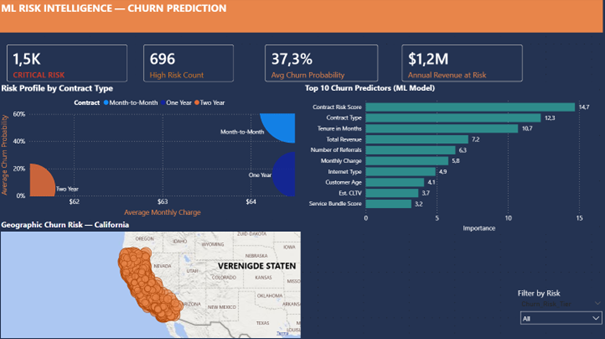

What the dashboard file says about the page in this screenshot:
{"tool":"powerbi","page":{"name":"ML Risk Intelligence","canvas":[1280,720],"ordinal":2},"visuals":[{"type":"map","title":"Geographic Churn Risk — California","fields":{"Size":["Avg(telecom_clean_powerbi.Monthly Charge)"],"Y":["telecom_clean_powerbi.Latitude"],"X":["telecom_clean_powerbi.Longitude"]},"box":[0,464,640,256],"z":0},{"type":"textbox","box":[0,0,1272,72],"z":1000},{"type":"cardVisual","title":"CRITICAL RISK","fields":{"Data":["telecom_clean_powerbi.Critical Risk Count"]},"box":[0,80,288,112],"z":2000},{"type":"cardVisual","fields":{"Data":["telecom_clean_powerbi.High Risk Count"]},"box":[288,80,224,112],"z":3000},{"type":"cardVisual","fields":{"Data":["telecom_clean_powerbi.Avg Churn Probability"]},"box":[544,80,272,112],"z":4000},{"type":"cardVisual","fields":{"Data":["telecom_clean_powerbi.Annual Revenue at Risk"]},"box":[832,80,288,112],"z":5000},{"type":"scatterChart","title":"Risk Profile by Contract Type","fields":{"Category":["telecom_clean_powerbi.Contract"],"X":["Avg(telecom_clean_powerbi.Monthly Charge)"],"Y":["Avg(telecom_clean_powerbi.Churn_Probability)"],"Series":["telecom_clean_powerbi.Contract"],"Size":["CountNonNull(telecom_clean_powerbi.Customer ID)"]},"box":[0,176,640,288],"z":6000},{"type":"slicer","title":"Filter by Risk","fields":{"Values":["telecom_clean_powerbi.Churn_Risk_Tier"]},"box":[1088,608,192,96],"z":7000},{"type":"clusteredBarChart","title":"Top 10 Churn Predictors (ML Model)","fields":{"Category":["FeatureImportance.Feature"],"Y":["Sum(FeatureImportance.Importance)"]},"box":[640,176,624,320],"z":8000}]}

Visuals, with their boxes in screenshot pixels (x1, y1, x2, y2), scaled from the page's 1280x720 canvas onto the 605x339 screenshot:
"Geographic Churn Risk — California" map: (0,218,302,338)
textbox: (0,0,601,34)
"CRITICAL RISK" cardVisual: (0,38,136,90)
cardVisual - telecom_clean_powerbi.High Risk Count: (136,38,242,90)
cardVisual - telecom_clean_powerbi.Avg Churn Probability: (257,38,386,90)
cardVisual - telecom_clean_powerbi.Annual Revenue at Risk: (393,38,529,90)
"Risk Profile by Contract Type" scatterChart: (0,83,302,218)
"Filter by Risk" slicer: (514,286,604,331)
"Top 10 Churn Predictors (ML Model)" clusteredBarChart: (302,83,597,234)
